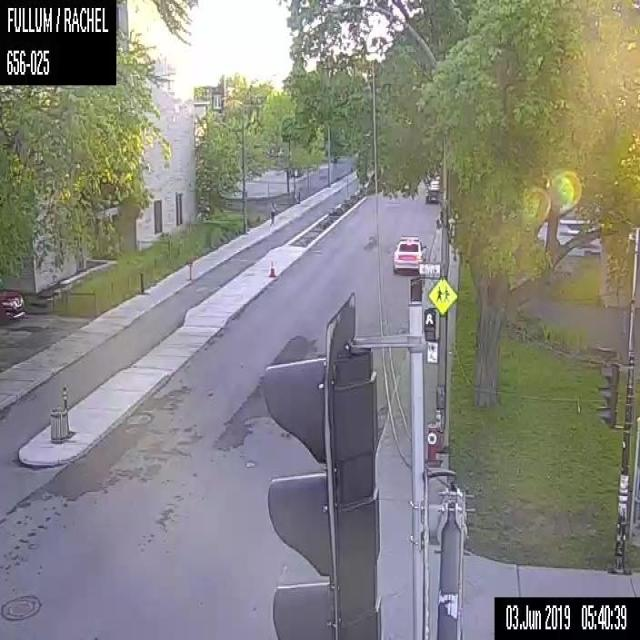construction: (268, 259, 276, 276)
pedestrian: (268, 200, 275, 225)
vehicle: (392, 234, 426, 274), (0, 288, 25, 320), (425, 184, 439, 202), (429, 180, 439, 186)
